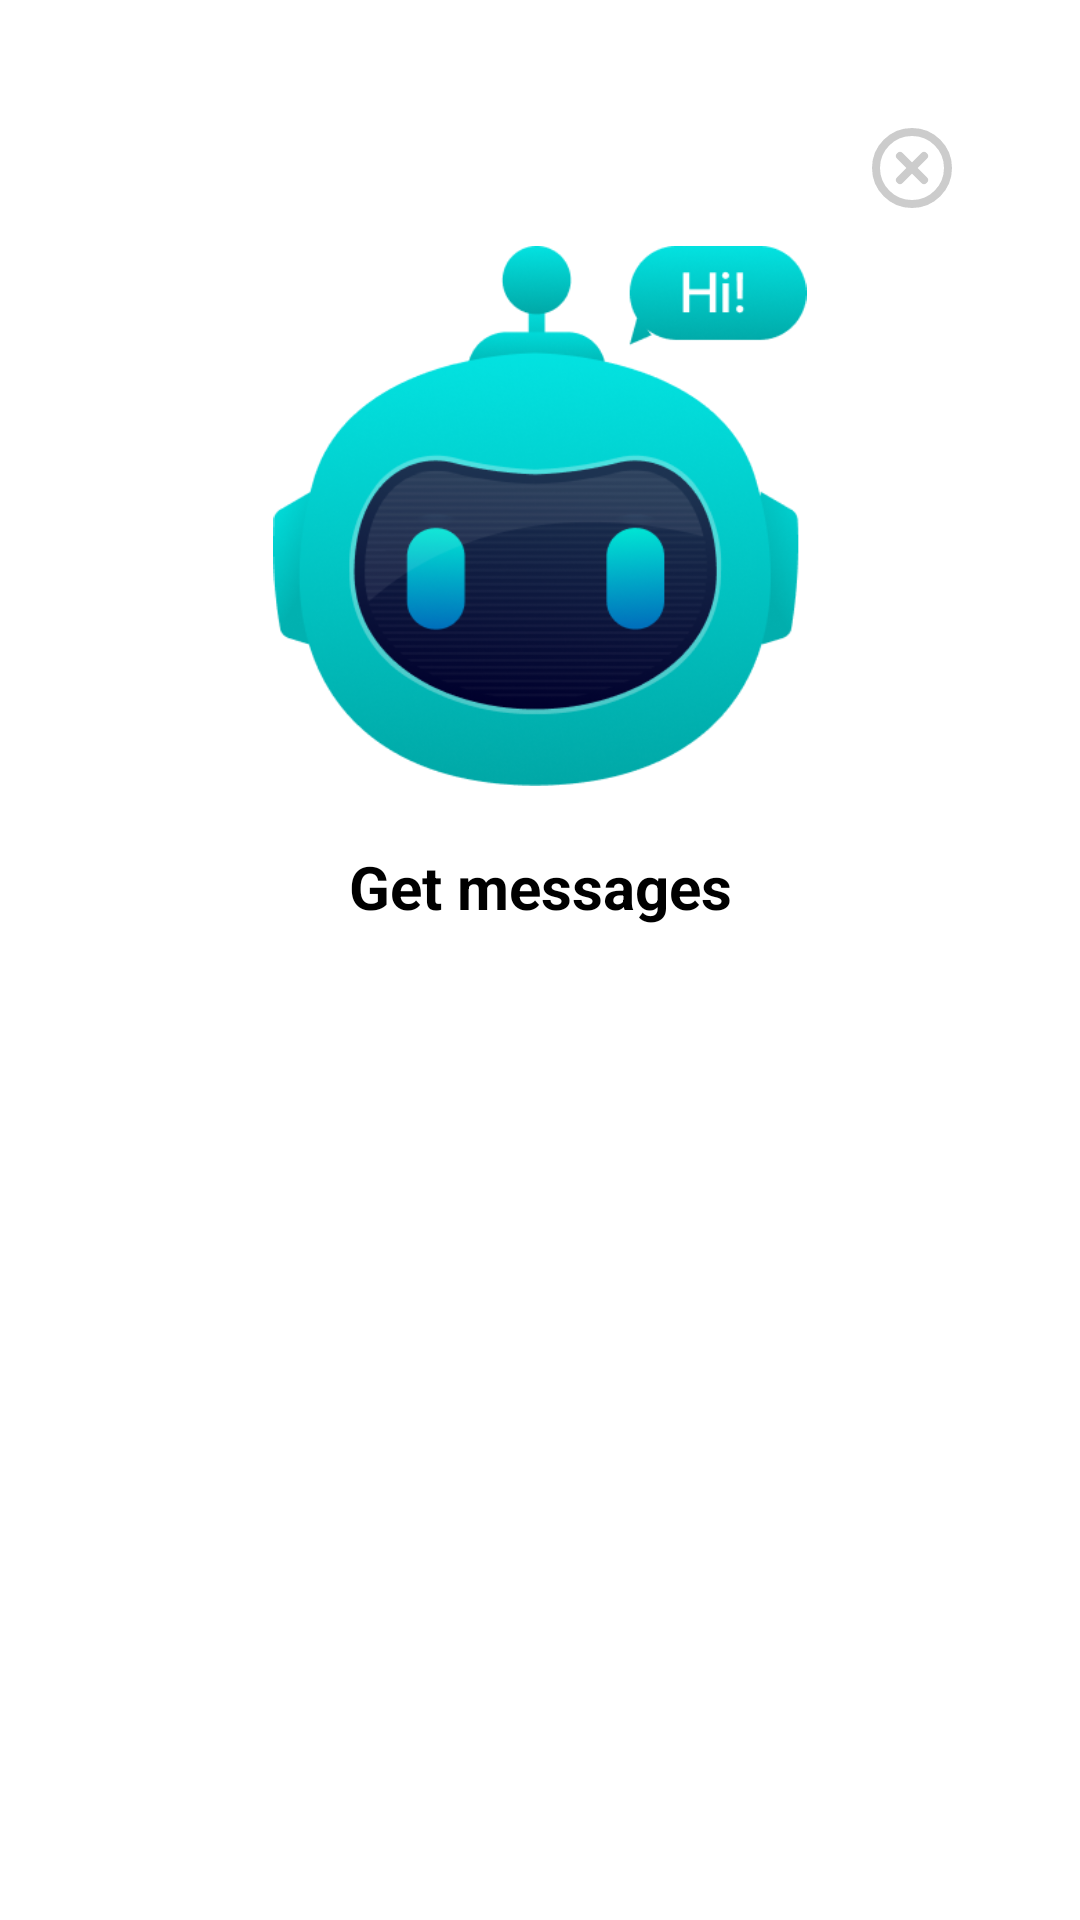

Icon click points for this 1080px x 1920px phone screenshot, format point (x, y):
clear circle: point (912, 168)
